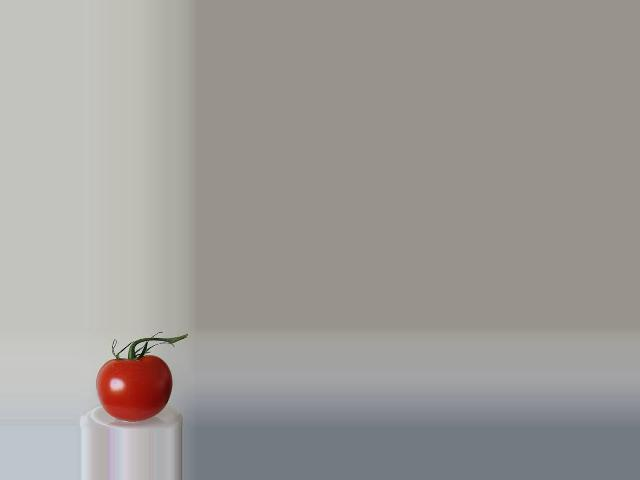tomato: (96, 355, 173, 421)
